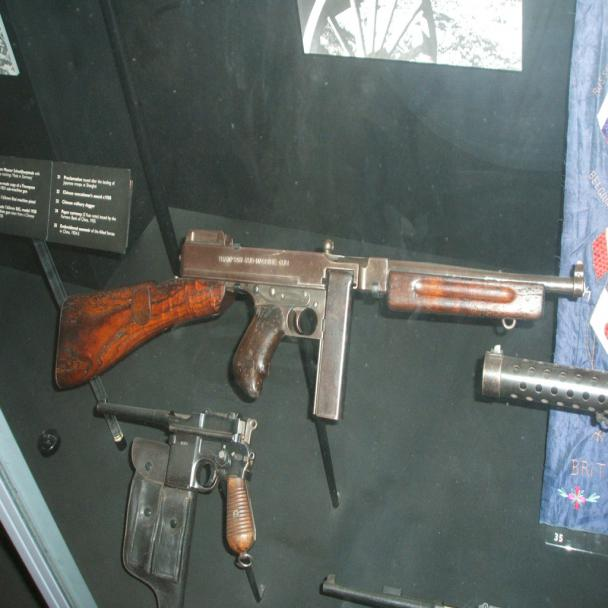Gun: (42, 226, 590, 429), (86, 392, 276, 575)
